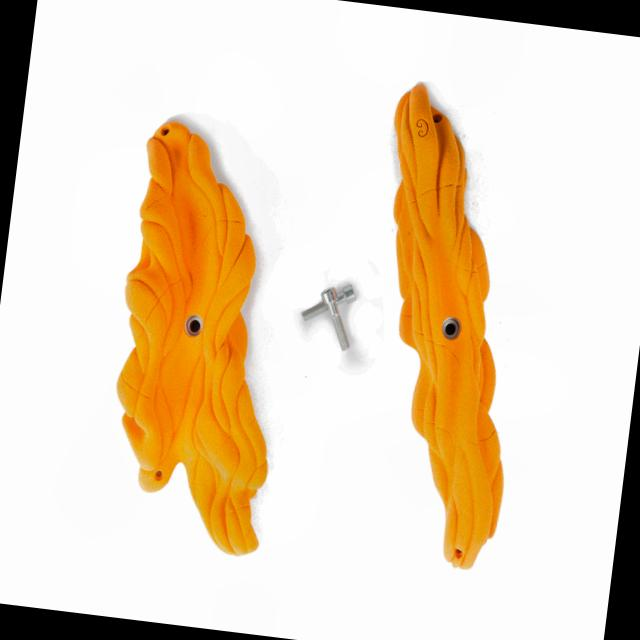Hold: (338, 80, 552, 576), (96, 113, 314, 559)
